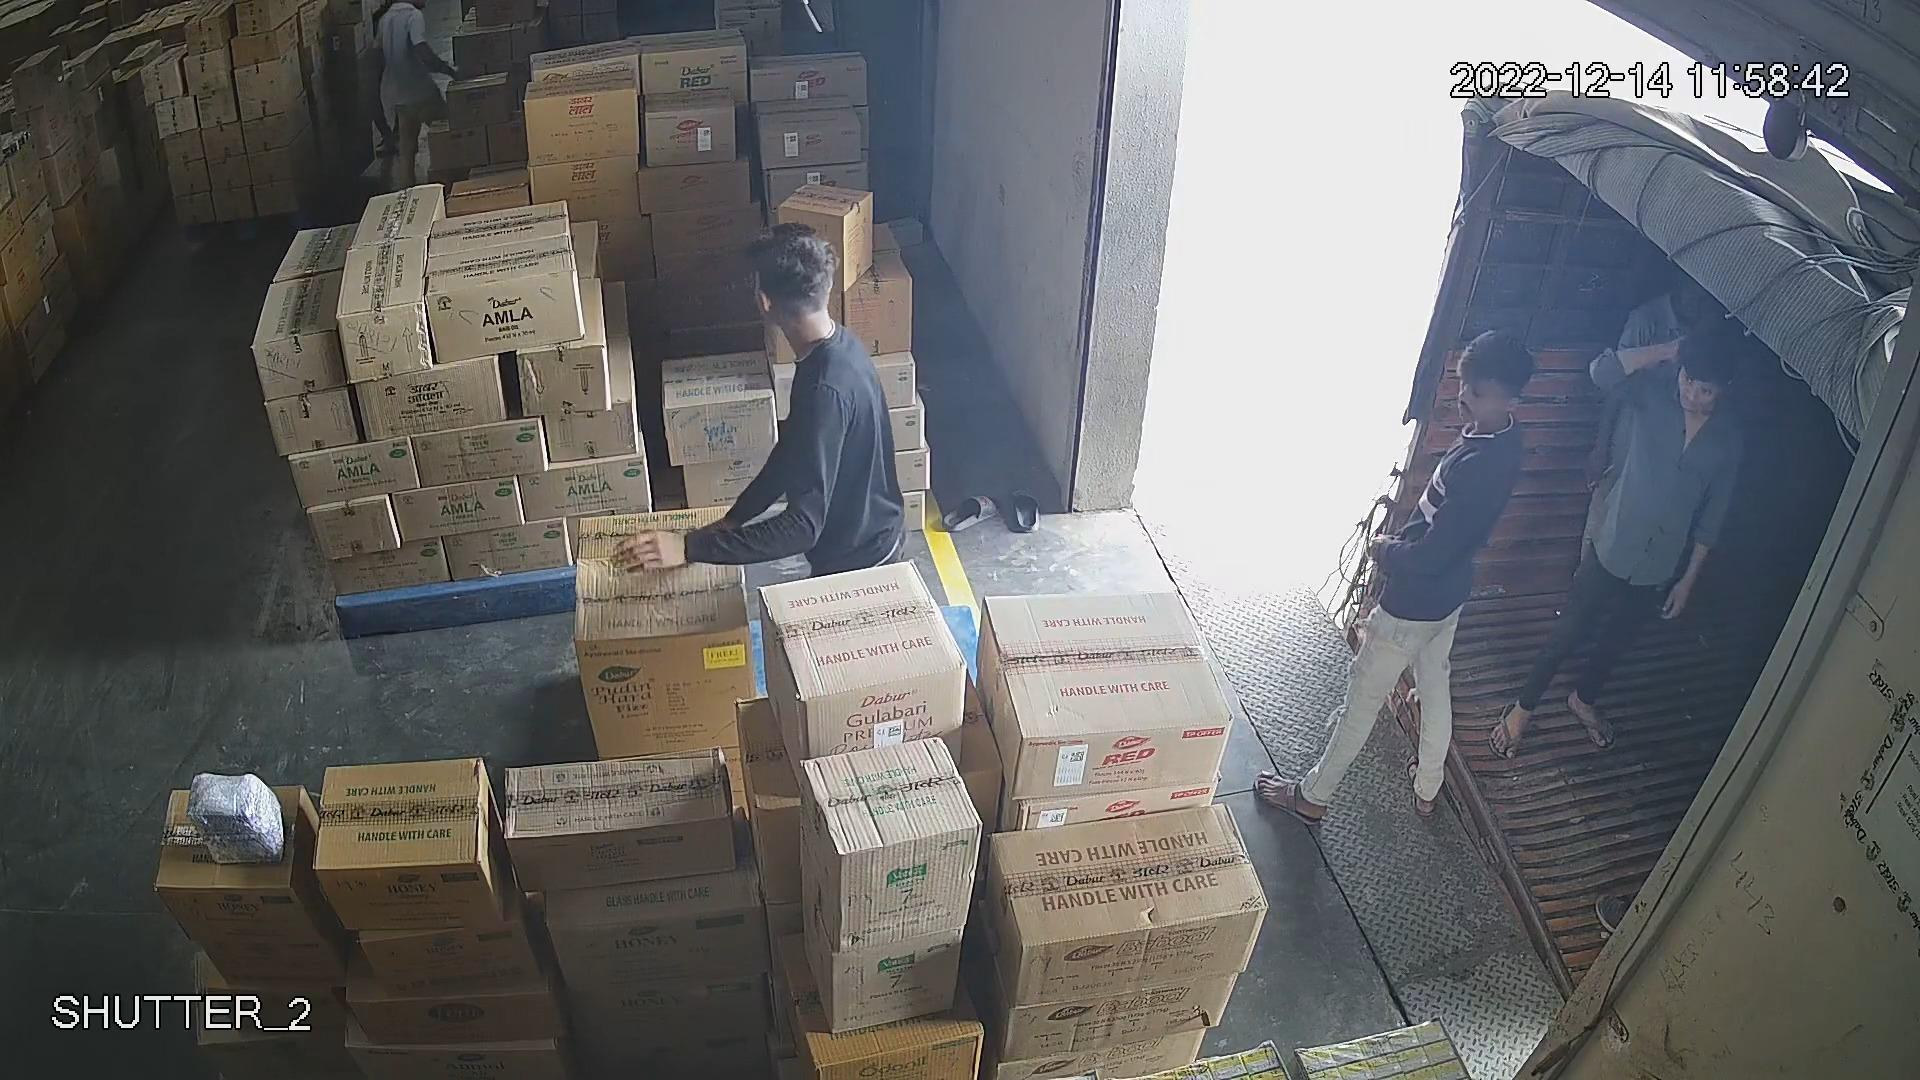-: (800, 733, 985, 1039), (989, 800, 1263, 1000), (980, 589, 1233, 800), (568, 508, 753, 761), (760, 559, 969, 760), (314, 757, 508, 928), (506, 749, 740, 886), (158, 785, 318, 943), (774, 182, 877, 293), (525, 69, 641, 164), (770, 355, 924, 415), (782, 405, 926, 460), (756, 96, 864, 166), (644, 90, 737, 164)
